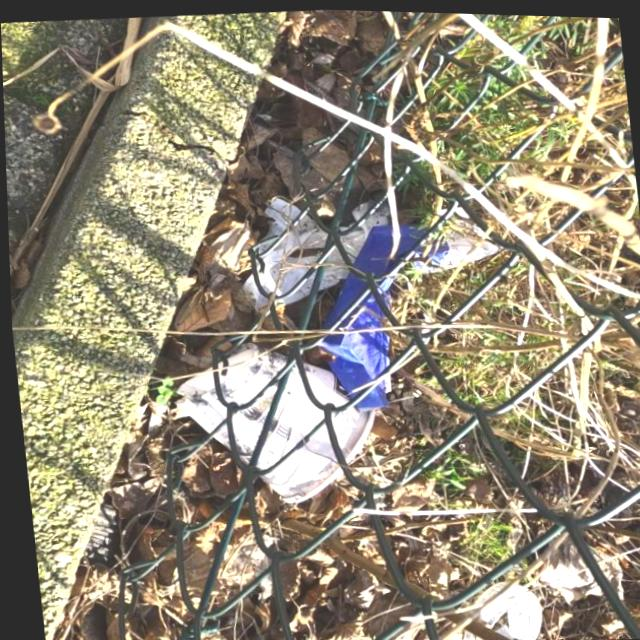Cup: (162, 329, 383, 512)
Paper: (229, 183, 399, 313)
Plastic: (302, 210, 518, 416)
